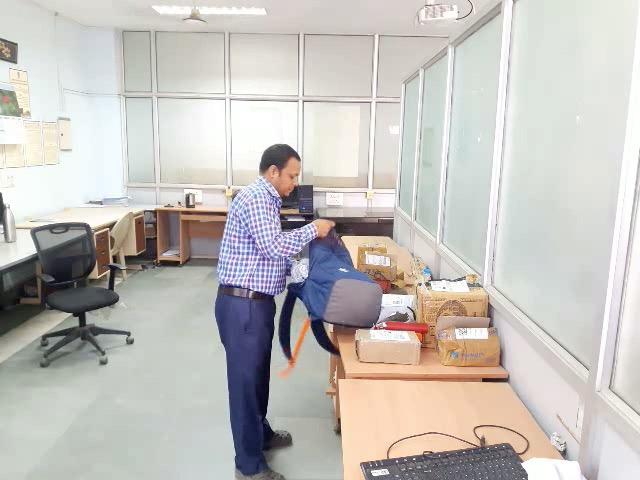shoplifting: (191, 202, 402, 328)
